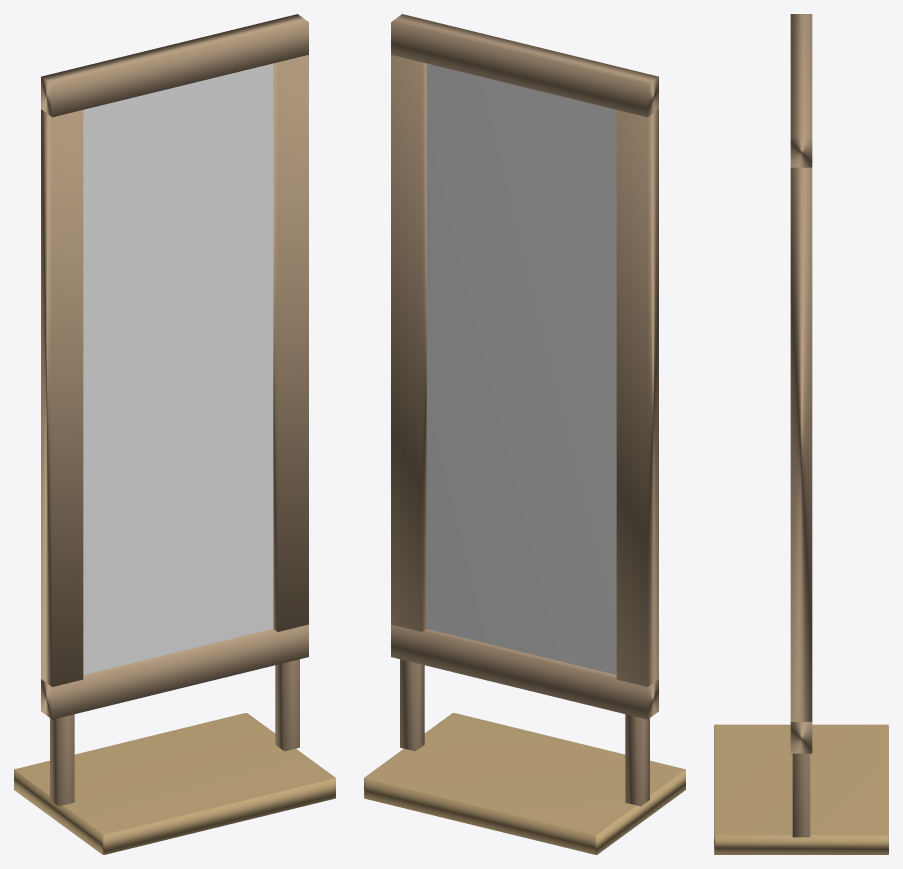
The picture shows the model from 3 angles, left to right: view 1: azimuth 30°, elevation 25°; view 2: azimuth 150°, elevation 25°; view 3: azimuth 270°, elevation 25°; orthographic projection. The views are drawn at different scales.
Bounding box in the file's own units: 0.66 × 1.83 × 0.4.
